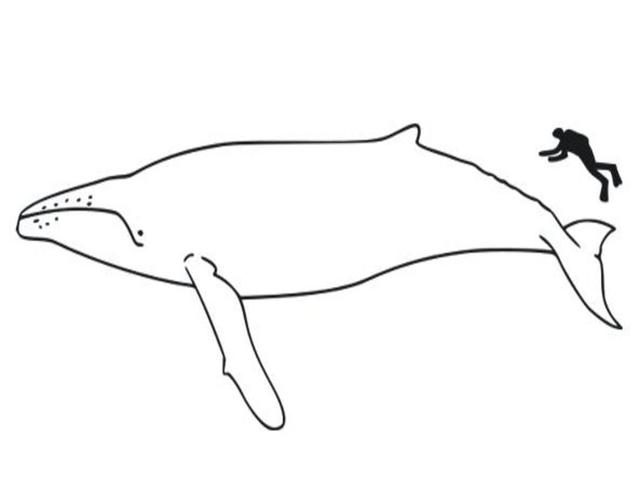dolphin: (9, 70, 620, 433)
